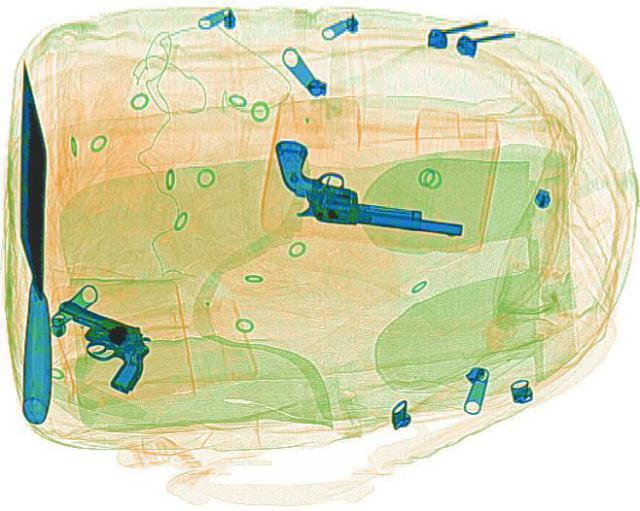Gun: (258, 137, 476, 239), (22, 297, 166, 394)
Knife: (18, 57, 48, 422)
